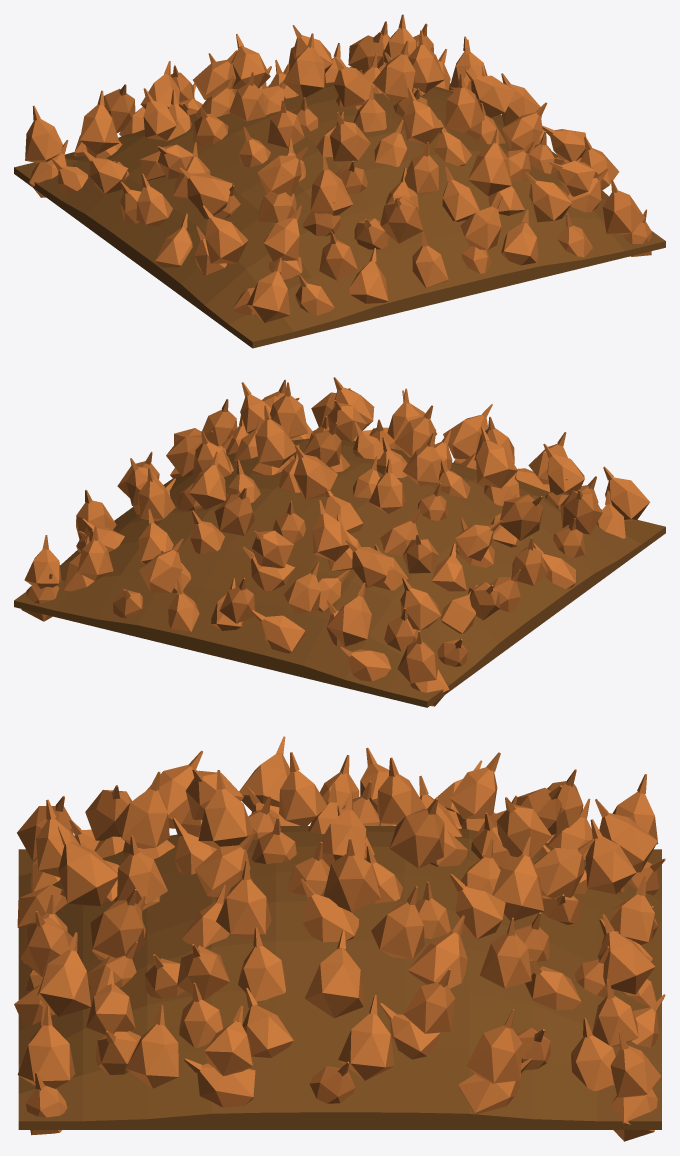
Rendered from Pile_Onion.fbx.
3 renders of one model, top to bottom at view 1: azimuth 30°, elevation 25°; view 2: azimuth 150°, elevation 25°; view 3: azimuth 270°, elevation 25°, orthographic. The views are drawn at different scales.
Parts seen in each view (by area): view 1: Pile_Onion; view 2: Pile_Onion; view 3: Pile_Onion.
Part boxes in pixels (x1,y1,x2,y2): Pile_Onion: [14, 14, 665, 348]; Pile_Onion: [14, 377, 665, 707]; Pile_Onion: [14, 736, 665, 1141].
Bounding box in the file's own units: 1.01 × 0.38 × 1.01.
